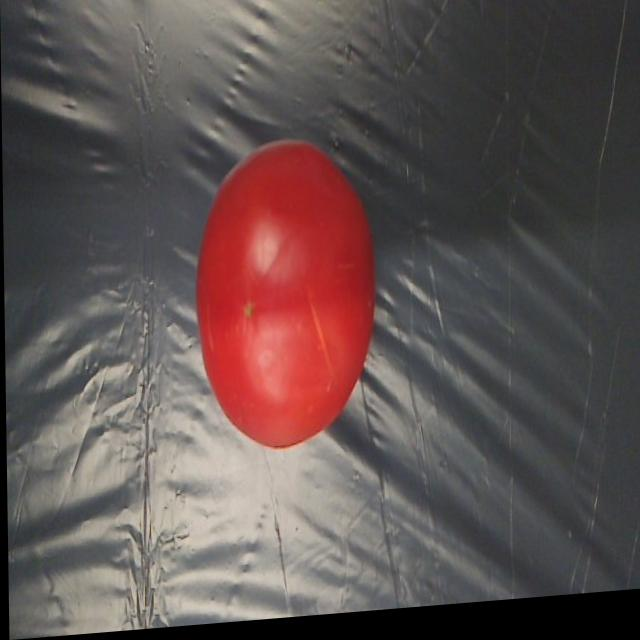kirmizi: (189, 130, 377, 466)
